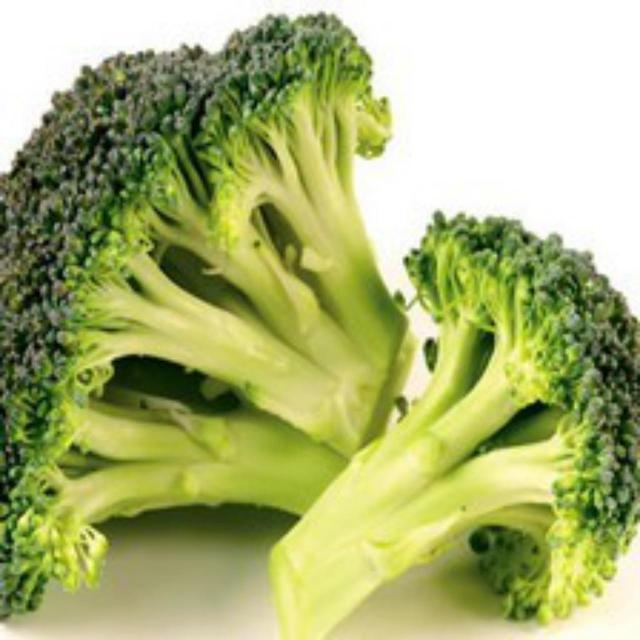broccoli: (0, 0, 417, 637)
